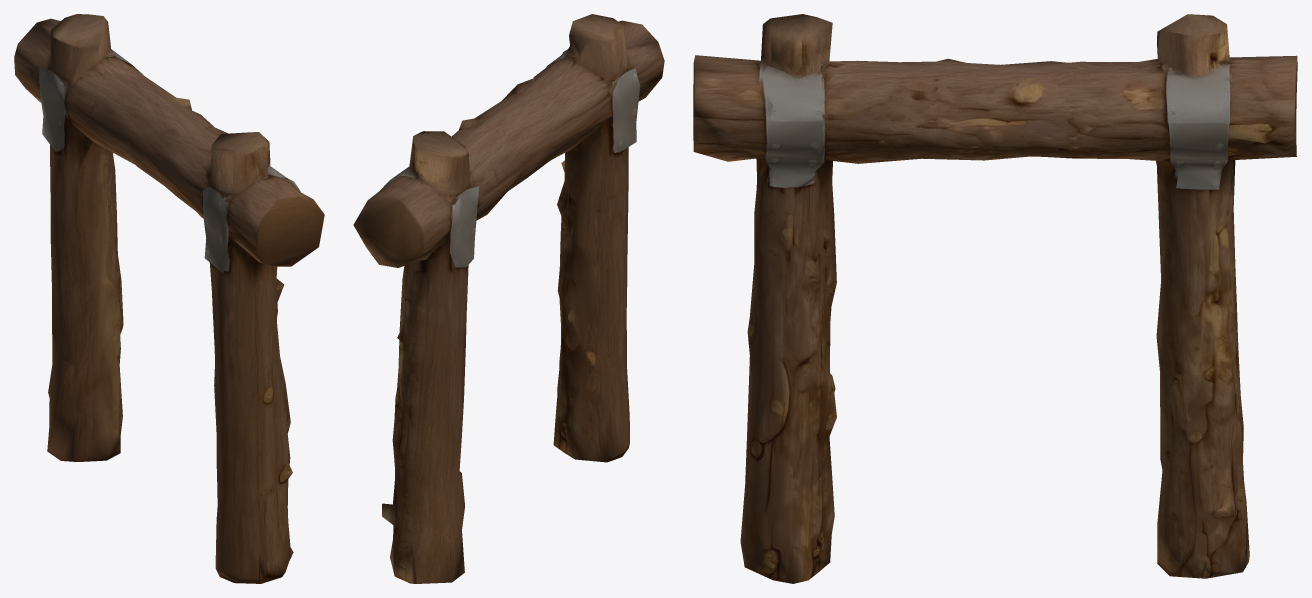
File: mine_timber.glb
3 views of the same model, side by side, from view 1: azimuth 30°, elevation 25°; view 2: azimuth 150°, elevation 25°; view 3: azimuth 270°, elevation 25° (orthographic). The views are drawn at different scales.
Parts seen in each view (by area): view 1: mine_timber; view 2: mine_timber; view 3: mine_timber.
Boxes of the visible parts, x1=… form: mine_timber: x1=14, y1=14, x2=324, y2=583; mine_timber: x1=353, y1=14, x2=664, y2=583; mine_timber: x1=693, y1=14, x2=1297, y2=583.
Size of the model in its own units: 0.6562 by 3.33 by 3.4.
Materials: 1 (1 with a texture image).
